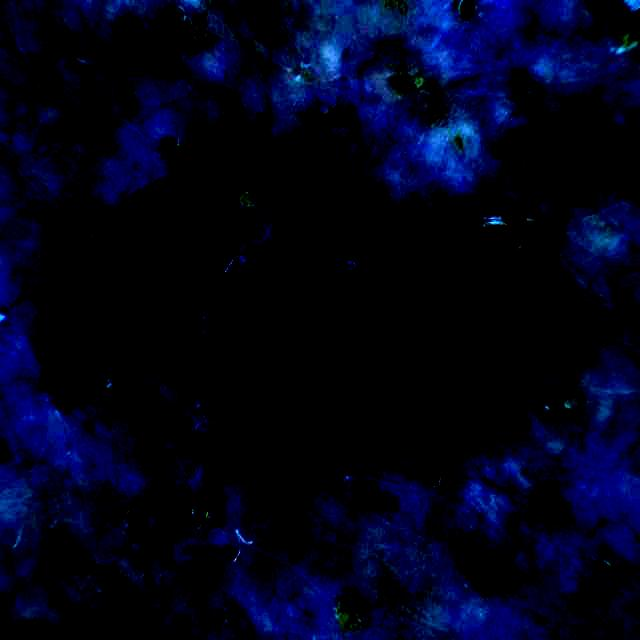MEL: (70, 141, 513, 497)
